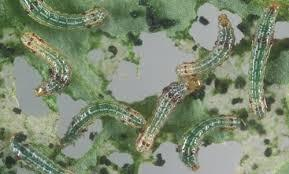Armyworm: (136, 67, 194, 160), (179, 11, 238, 92), (180, 101, 245, 170), (18, 28, 73, 102), (66, 103, 151, 150), (255, 9, 279, 120)
